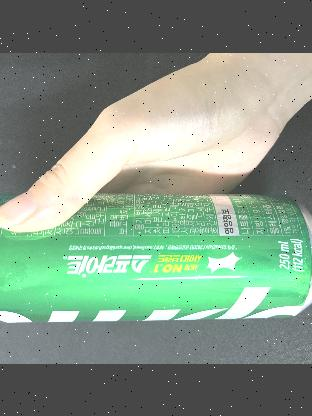Can: (0, 190, 312, 321)
